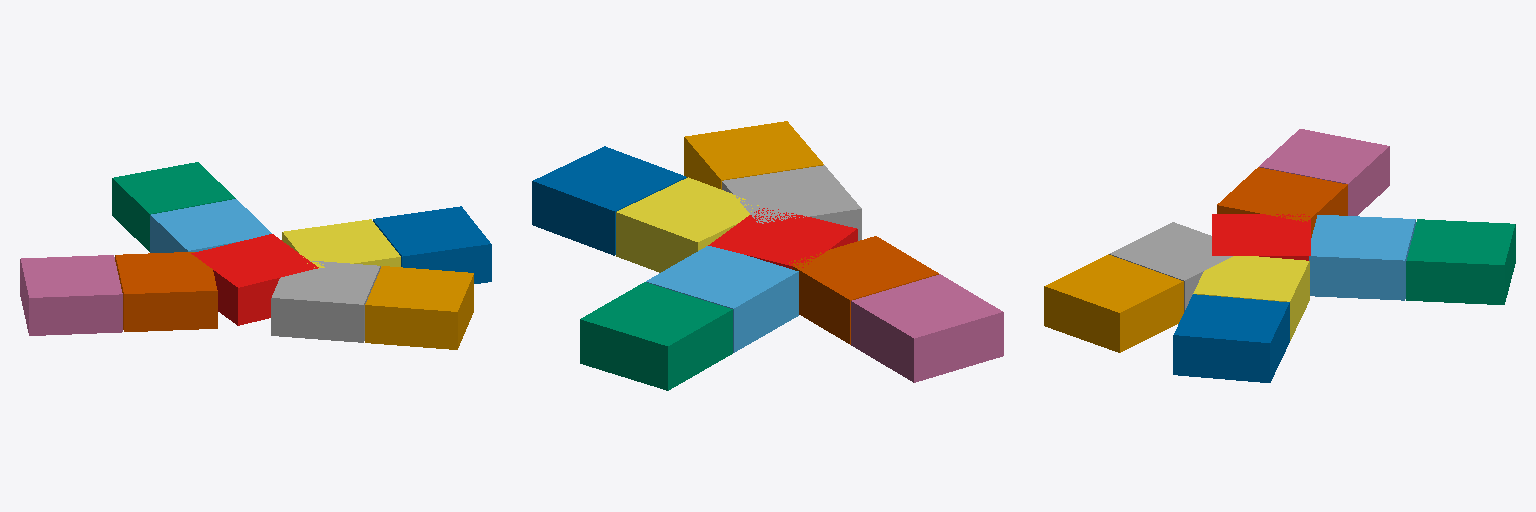
robot.urdf — Model_Models/Model_97.urdf0:
<?xml version='1.0' encoding='UTF-8'?>
<robot name="Model_Models/Model_97.urdf0">
  <link name="base_link">
    <inertial>
      <origin xyz="0.0 0.0 0.0" rpy="0.0 -0.0 0.0"/>
      <mass value="1.0"/>
      <inertia ixx="1.0" ixy="0.0" ixz="0.0" iyy="1.0" iyz="0.0" izz="1.0"/>
    </inertial>
    <visual>
      <geometry>
        <box size="0.67 0.67 0.3 "/>
      </geometry>
      <material name="red"/>
      <origin xyz="0.0 0.0 0.0" rpy="0.0 -0.0 0.0"/>
    </visual>
    <collision>
      <geometry>
        <box size="0.67 0.67 0.3 "/>
      </geometry>
      <origin xyz="0.0 0.0 0.0" rpy="0.0 0.0 0.0"/>
    </collision>
  </link>
  <link name="arm_0_arm1">
    <inertial>
      <origin xyz="0.0 0.34 0.0" rpy="0.0 0.0 0.0"/>
      <mass value="1.0"/>
      <inertia ixx="0.0" ixy="0.0" ixz="0.0" iyy="0.0" iyz="0.0" izz="0.0"/>
    </inertial>
    <visual>
      <geometry>
        <box size="0.67 0.67 0.3 "/>
      </geometry>
      <origin xyz="0.0 0.34 0.0" rpy="0.0 0.0 0.0"/>
    </visual>
    <collision>
      <geometry>
        <box size="0.67 0.67 0.3 "/>
      </geometry>
      <origin xyz="0.0 0.34 0.0" rpy="0.0 0.0 0.0"/>
    </collision>
  </link>
  <link name="arm_0_arm2">
    <inertial>
      <origin xyz="0.0 0.34 0.0" rpy="0.0 0.0 0.0"/>
      <mass value="1.0"/>
      <inertia ixx="0.0" ixy="0.0" ixz="0.0" iyy="0.0" iyz="0.0" izz="0.0"/>
    </inertial>
    <visual>
      <geometry>
        <box size="0.67 0.67 0.3 "/>
      </geometry>
      <origin xyz="0.0 0.34 0.0" rpy="0.0 0.0 0.0"/>
    </visual>
    <collision>
      <geometry>
        <box size="0.67 0.67 0.3 "/>
      </geometry>
      <origin xyz="0.0 0.34 0.0" rpy="0.0 0.0 0.0"/>
    </collision>
  </link>
  <link name="arm_2_arm1">
    <inertial>
      <origin xyz="0.0 0.34 0.0" rpy="0.0 0.0 0.0"/>
      <mass value="1.0"/>
      <inertia ixx="0.0" ixy="0.0" ixz="0.0" iyy="0.0" iyz="0.0" izz="0.0"/>
    </inertial>
    <visual>
      <geometry>
        <box size="0.67 0.67 0.3 "/>
      </geometry>
      <origin xyz="0.0 0.34 0.0" rpy="0.0 0.0 0.0"/>
    </visual>
    <collision>
      <geometry>
        <box size="0.67 0.67 0.3 "/>
      </geometry>
      <origin xyz="0.0 0.34 0.0" rpy="0.0 0.0 0.0"/>
    </collision>
  </link>
  <link name="arm_2_arm2">
    <inertial>
      <origin xyz="0.0 0.34 0.0" rpy="0.0 0.0 0.0"/>
      <mass value="1.0"/>
      <inertia ixx="0.0" ixy="0.0" ixz="0.0" iyy="0.0" iyz="0.0" izz="0.0"/>
    </inertial>
    <visual>
      <geometry>
        <box size="0.67 0.67 0.3 "/>
      </geometry>
      <origin xyz="0.0 0.34 0.0" rpy="0.0 0.0 0.0"/>
    </visual>
    <collision>
      <geometry>
        <box size="0.67 0.67 0.3 "/>
      </geometry>
      <origin xyz="0.0 0.34 0.0" rpy="0.0 0.0 0.0"/>
    </collision>
  </link>
  <link name="arm_3_arm1">
    <inertial>
      <origin xyz="0.0 0.34 0.0" rpy="0.0 0.0 0.0"/>
      <mass value="1.0"/>
      <inertia ixx="0.0" ixy="0.0" ixz="0.0" iyy="0.0" iyz="0.0" izz="0.0"/>
    </inertial>
    <visual>
      <geometry>
        <box size="0.67 0.67 0.3 "/>
      </geometry>
      <origin xyz="0.0 0.34 0.0" rpy="0.0 0.0 0.0"/>
    </visual>
    <collision>
      <geometry>
        <box size="0.67 0.67 0.3 "/>
      </geometry>
      <origin xyz="0.0 0.34 0.0" rpy="0.0 0.0 0.0"/>
    </collision>
  </link>
  <link name="arm_3_arm2">
    <inertial>
      <origin xyz="0.0 0.34 0.0" rpy="0.0 0.0 0.0"/>
      <mass value="1.0"/>
      <inertia ixx="0.0" ixy="0.0" ixz="0.0" iyy="0.0" iyz="0.0" izz="0.0"/>
    </inertial>
    <visual>
      <geometry>
        <box size="0.67 0.67 0.3 "/>
      </geometry>
      <origin xyz="0.0 0.34 0.0" rpy="0.0 0.0 0.0"/>
    </visual>
    <collision>
      <geometry>
        <box size="0.67 0.67 0.3 "/>
      </geometry>
      <origin xyz="0.0 0.34 0.0" rpy="0.0 0.0 0.0"/>
    </collision>
  </link>
  <link name="arm_Permutation_0_arm1">
    <inertial>
      <origin xyz="0.0 0.34 0.0" rpy="0.0 0.0 0.0"/>
      <mass value="1.0"/>
      <inertia ixx="0.0" ixy="0.0" ixz="0.0" iyy="0.0" iyz="0.0" izz="0.0"/>
    </inertial>
    <visual>
      <geometry>
        <box size="0.67 0.67 0.3 "/>
      </geometry>
      <origin xyz="0.0 0.34 0.0" rpy="0.0 0.0 0.0"/>
    </visual>
    <collision>
      <geometry>
        <box size="0.67 0.67 0.3 "/>
      </geometry>
      <origin xyz="0.0 0.34 0.0" rpy="0.0 0.0 0.0"/>
    </collision>
  </link>
  <link name="arm_Permutation_0_arm2">
    <inertial>
      <origin xyz="0.0 0.34 0.0" rpy="0.0 0.0 0.0"/>
      <mass value="1.0"/>
      <inertia ixx="0.0" ixy="0.0" ixz="0.0" iyy="0.0" iyz="0.0" izz="0.0"/>
    </inertial>
    <visual>
      <geometry>
        <box size="0.67 0.67 0.3 "/>
      </geometry>
      <origin xyz="0.0 0.34 0.0" rpy="0.0 0.0 0.0"/>
    </visual>
    <collision>
      <geometry>
        <box size="0.67 0.67 0.3 "/>
      </geometry>
      <origin xyz="0.0 0.34 0.0" rpy="0.0 0.0 0.0"/>
    </collision>
  </link>
  <joint name="arm_0_jointBase" type="fixed">
    <limit effort="1.57" velocity="1.57" lower="-1.57" upper="1.57"/>
    <parent link="base_link"/>
    <child link="arm_0_arm1"/>
    <axis xyz="1. 0. 0."/>
    <origin xyz="0.0 0.34 0.0" rpy="0.0 0.0 -0.11"/>
  </joint>
  <joint name="arm_0_joint1" type="revolute">
    <limit effort="1.57" velocity="1.57" lower="-1.57" upper="1.57"/>
    <parent link="arm_0_arm1"/>
    <child link="arm_0_arm2"/>
    <axis xyz="1. 0. 0."/>
    <origin xyz="0.0 0.68 0.0" rpy="0.0 0.0 0.0"/>
  </joint>
  <joint name="arm_2_jointBase" type="fixed">
    <limit effort="1.57" velocity="1.57" lower="-1.57" upper="1.57"/>
    <parent link="base_link"/>
    <child link="arm_2_arm1"/>
    <axis xyz="1. 0. 0."/>
    <origin xyz="0.34 0.0 0.0" rpy="0.0 0.0 -1.77"/>
  </joint>
  <joint name="arm_2_joint1" type="revolute">
    <limit effort="1.57" velocity="1.57" lower="-1.57" upper="1.57"/>
    <parent link="arm_2_arm1"/>
    <child link="arm_2_arm2"/>
    <axis xyz="1. 0. 0."/>
    <origin xyz="0.0 0.68 0.0" rpy="0.0 0.0 0.0"/>
  </joint>
  <joint name="arm_3_jointBase" type="fixed">
    <limit effort="1.57" velocity="1.57" lower="-1.57" upper="1.57"/>
    <parent link="base_link"/>
    <child link="arm_3_arm1"/>
    <axis xyz="1. 0. 0."/>
    <origin xyz="-0.34 0.0 0.0" rpy="0.0 0.0 1.14"/>
  </joint>
  <joint name="arm_3_joint1" type="revolute">
    <limit effort="1.57" velocity="1.57" lower="-1.57" upper="1.57"/>
    <parent link="arm_3_arm1"/>
    <child link="arm_3_arm2"/>
    <axis xyz="1. 0. 0."/>
    <origin xyz="0.0 0.68 0.0" rpy="0.0 0.0 0.0"/>
  </joint>
  <joint name="arm_Permutation_0_jointBase" type="fixed">
    <limit effort="1.57" velocity="1.57" lower="-1.57" upper="1.57"/>
    <parent link="base_link"/>
    <child link="arm_Permutation_0_arm1"/>
    <axis xyz="1. 0. 0."/>
    <origin xyz="0.0 -0.34 0.0" rpy="0.0 0.0 -2.273185307179587"/>
  </joint>
  <joint name="arm_Permutation_0_joint1" type="revolute">
    <limit effort="1.57" velocity="1.57" lower="-1.57" upper="1.57"/>
    <parent link="arm_Permutation_0_arm1"/>
    <child link="arm_Permutation_0_arm2"/>
    <axis xyz="1. 0. 0."/>
    <origin xyz="0.0 0.68 0.0" rpy="0.0 0.0 0.0"/>
  </joint>
  <material name="red">
    <color rgba="0.969 0.129 0.122 1.   "/>
  </material>
</robot>

--- Facts derived from the render (not from the file) ---
The picture shows the robot from 3 angles, left to right: view 1: azimuth 30°, elevation 25°; view 2: azimuth 150°, elevation 25°; view 3: azimuth 270°, elevation 25°; orthographic projection.
Model Model_Models/Model_97.urdf0 with 9 links and 8 joints (4 revolute, 4 fixed), rooted at base_link, posed all joints at 0.
Links seen in each view (by area): view 1: arm_Permutation_0_arm2, arm_3_arm2, arm_3_arm1, arm_Permutation_0_arm1, base_link, arm_2_arm2, arm_0_arm2, arm_0_arm1, arm_2_arm1; view 2: arm_0_arm2, arm_3_arm2, arm_2_arm2, arm_0_arm1, arm_2_arm1, arm_3_arm1, arm_Permutation_0_arm2, arm_Permutation_0_arm1, base_link; view 3: arm_Permutation_0_arm2, arm_2_arm2, arm_0_arm2, arm_0_arm1, arm_3_arm2, arm_3_arm1, arm_2_arm1, base_link, arm_Permutation_0_arm1.
Boxes of the visible links, x1=… form: arm_Permutation_0_arm2: x1=365, y1=266, x2=473, y2=349; arm_3_arm2: x1=20, y1=255, x2=122, y2=335; arm_3_arm1: x1=115, y1=252, x2=217, y2=331; arm_Permutation_0_arm1: x1=271, y1=261, x2=380, y2=342; base_link: x1=191, y1=234, x2=318, y2=325; arm_2_arm2: x1=373, y1=206, x2=491, y2=283; arm_0_arm2: x1=112, y1=162, x2=235, y2=251; arm_0_arm1: x1=150, y1=199, x2=271, y2=252; arm_2_arm1: x1=282, y1=219, x2=400, y2=268; arm_0_arm2: x1=580, y1=282, x2=732, y2=390; arm_3_arm2: x1=851, y1=274, x2=1003, y2=382; arm_2_arm2: x1=532, y1=146, x2=686, y2=255; arm_0_arm1: x1=646, y1=246, x2=798, y2=352; arm_2_arm1: x1=616, y1=177, x2=758, y2=272; arm_3_arm1: x1=789, y1=236, x2=938, y2=344; arm_Permutation_0_arm2: x1=684, y1=121, x2=823, y2=189; arm_Permutation_0_arm1: x1=722, y1=165, x2=861, y2=240; base_link: x1=708, y1=208, x2=857, y2=269; arm_Permutation_0_arm2: x1=1044, y1=254, x2=1183, y2=352; arm_2_arm2: x1=1173, y1=294, x2=1289, y2=382; arm_0_arm2: x1=1406, y1=219, x2=1515, y2=304; arm_0_arm1: x1=1309, y1=215, x2=1415, y2=300; arm_3_arm2: x1=1259, y1=129, x2=1389, y2=215; arm_3_arm1: x1=1217, y1=167, x2=1347, y2=237; arm_2_arm1: x1=1193, y1=256, x2=1309, y2=340; base_link: x1=1212, y1=214, x2=1310, y2=260; arm_Permutation_0_arm1: x1=1109, y1=222, x2=1232, y2=311.
Bounding box of the posed robot: 3.45 × 3.19 × 0.3 m (x, y, z).
Geometry: primitives only (box / cylinder / sphere), no mesh files.